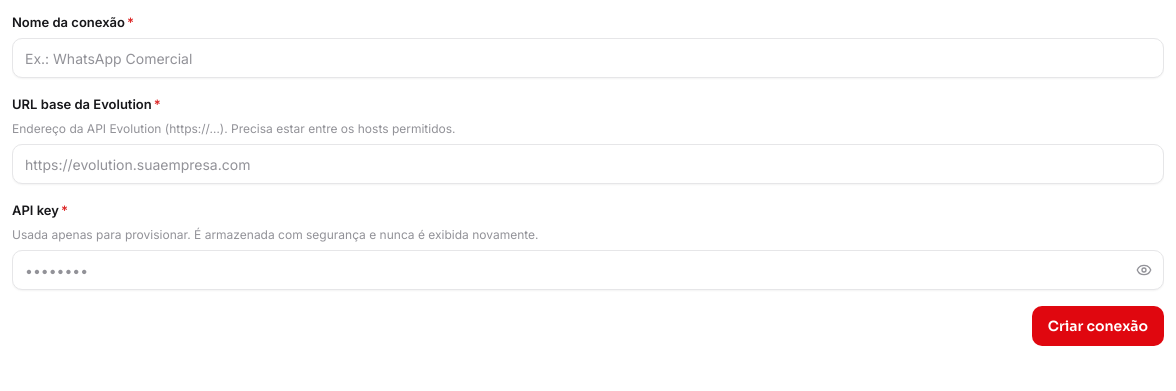
Test: EvolutionConnectionForm › rejeita URL base inválida
The image size is (1176, 391).
Step 1. Type "Comercial" into the field labelled "Nome da conexão*" → x=588, y=58, box top-left (12, 38), bottom-right (1164, 78)
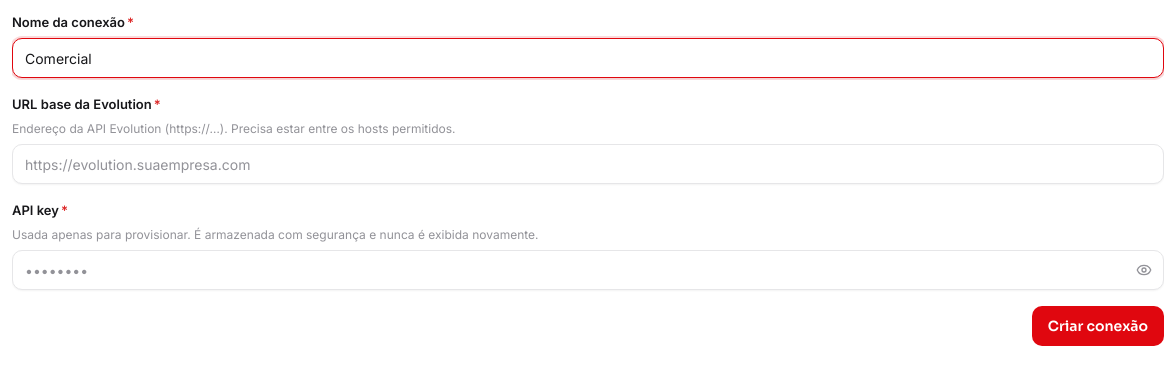
Step 2. Type "not-a-url" into the field labelled "URL base da Evolution*" → x=588, y=164, box top-left (12, 144), bottom-right (1164, 184)
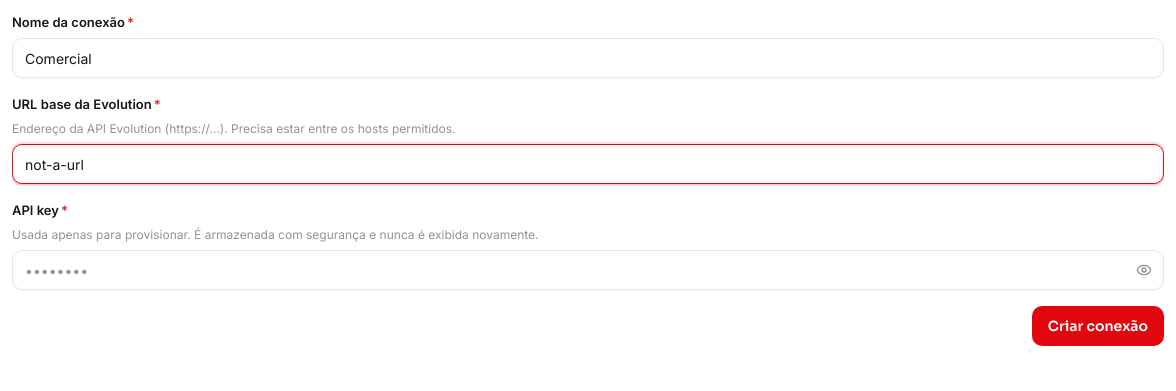
Step 3. Type "sk_live_supersecret_key" into the password field labelled "API key*" → x=588, y=270, box top-left (12, 250), bottom-right (1164, 290)
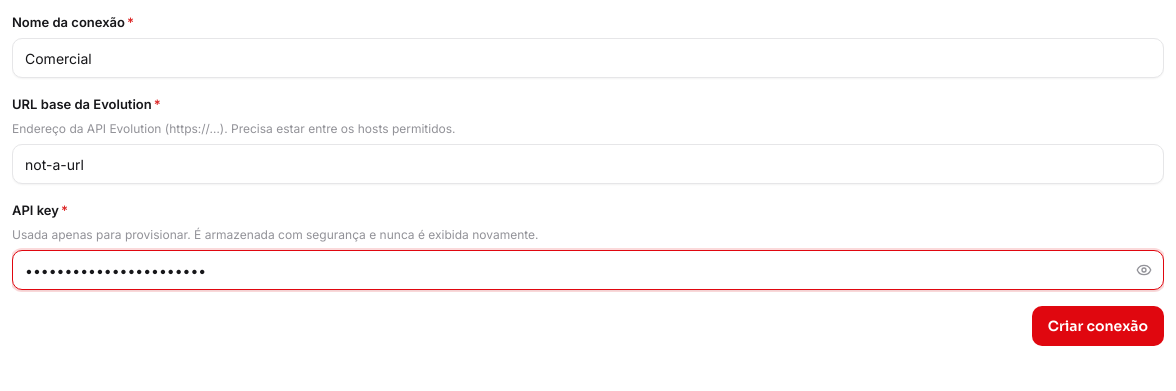
Step 4. Click the button "Criar conexão" → x=1098, y=326, box top-left (1032, 306), bottom-right (1164, 346)
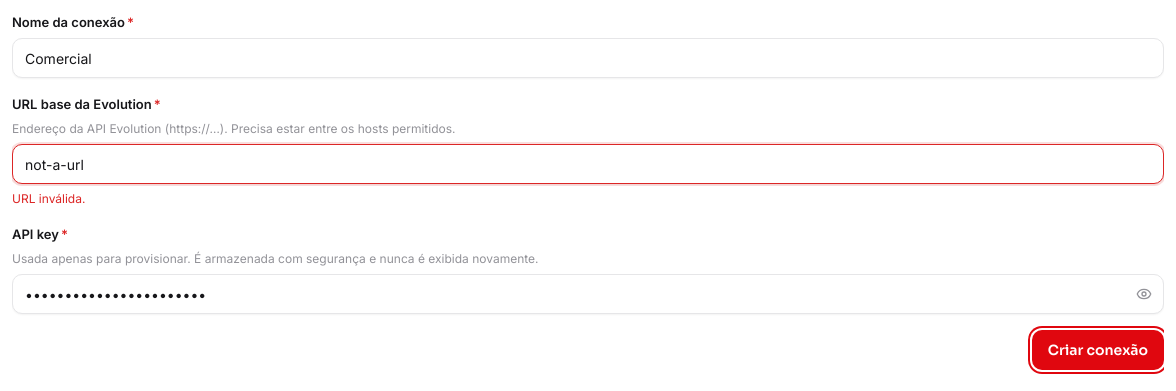
Now the text "URL inválida." is shown, box top-left (12, 191), bottom-right (85, 206)
